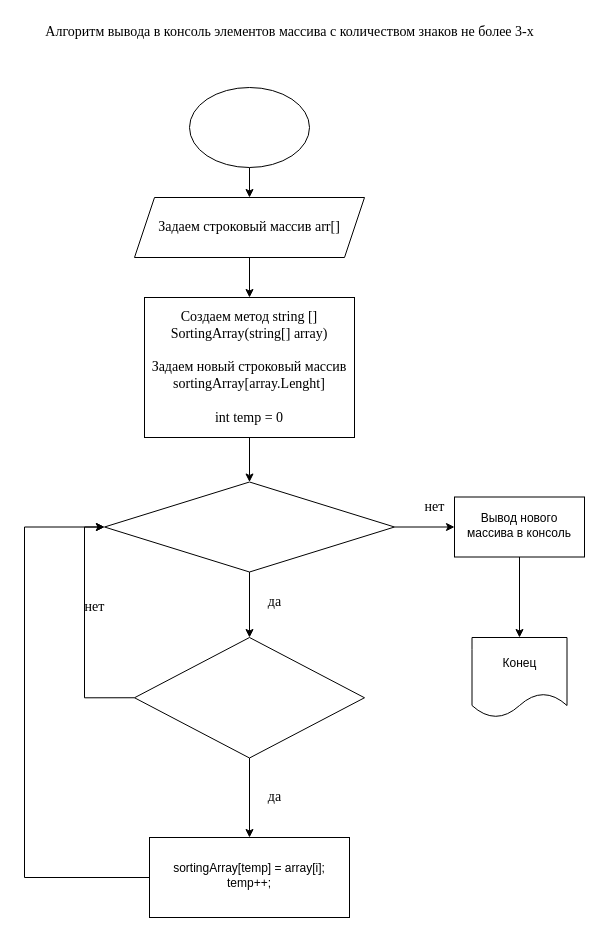
This 602x935 diagram has some shape labels left out. Here are the shapes that lost their labels. From the top down, the box of each, then its label:
(188, 86, 310, 168): НАЧАЛО
(104, 481, 394, 572): int i =0; i < array.Lenght; i++
(134, 636, 364, 758): if (array[i].Lenght <= 3)
